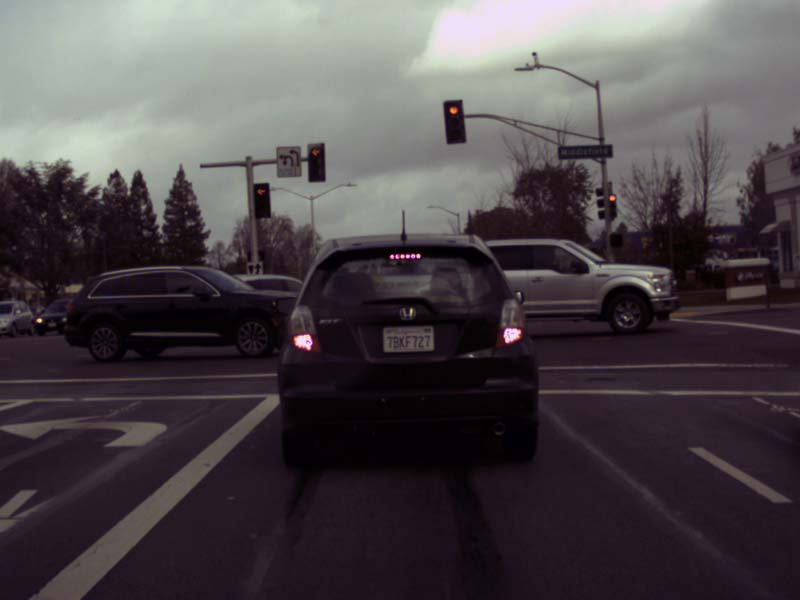Red: (444, 101, 465, 142), (308, 143, 324, 181), (254, 184, 270, 217), (609, 195, 616, 216)
